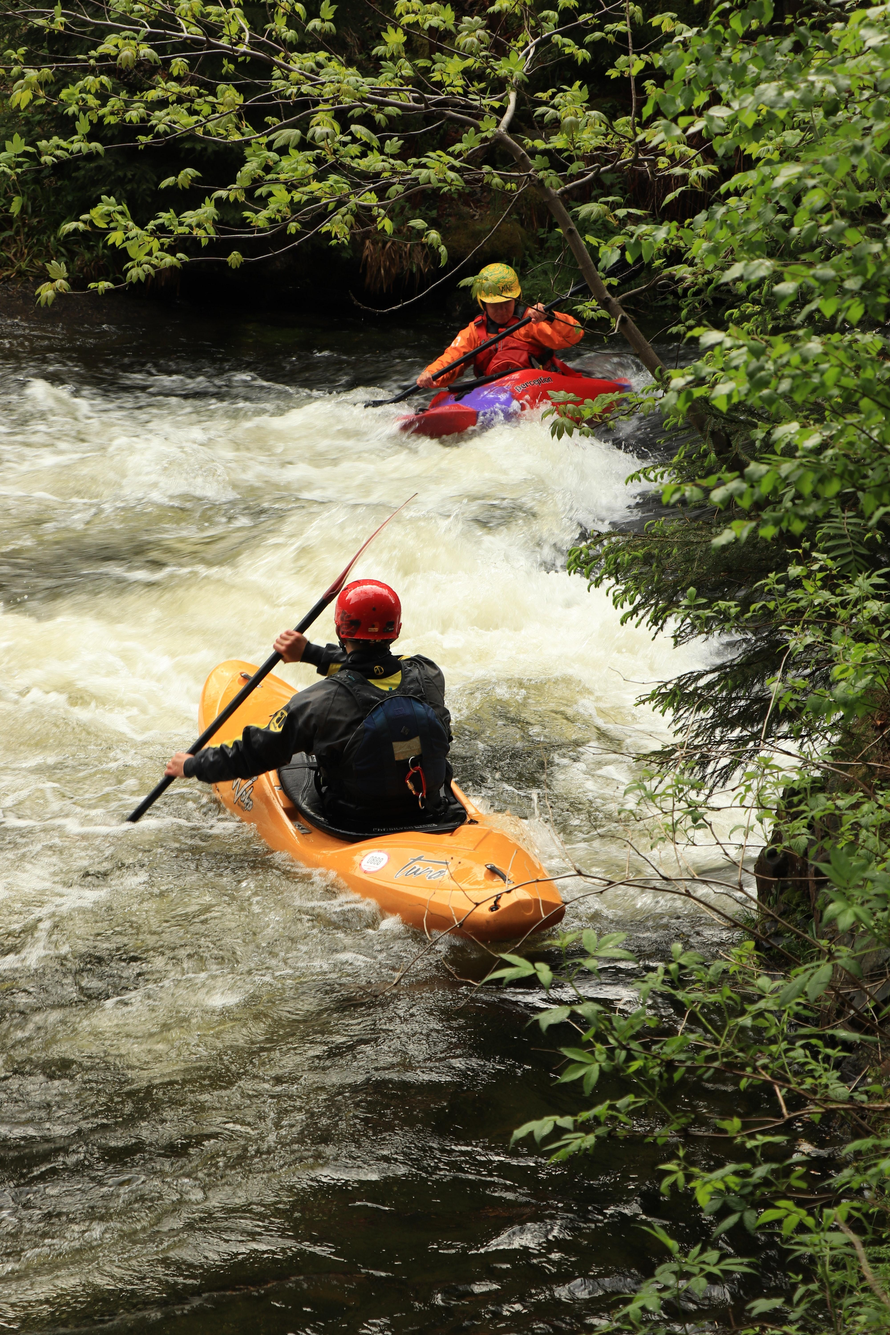Helmet: (311, 571, 437, 646)
